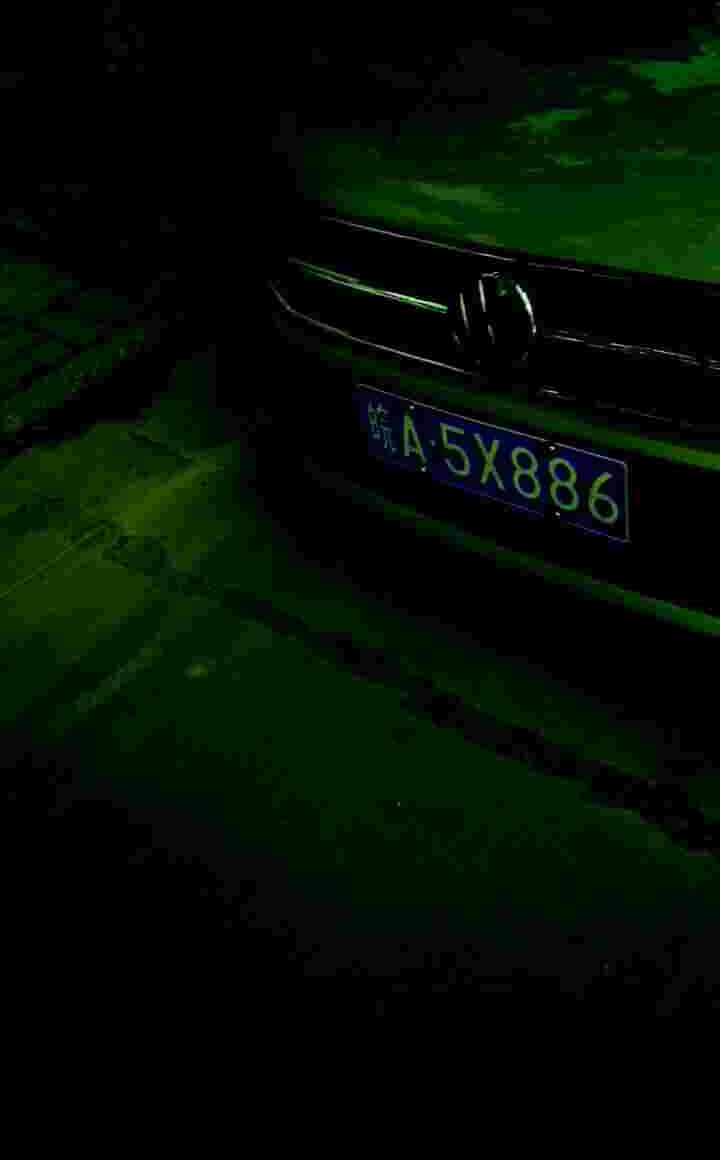car: (388, 400, 619, 521)
